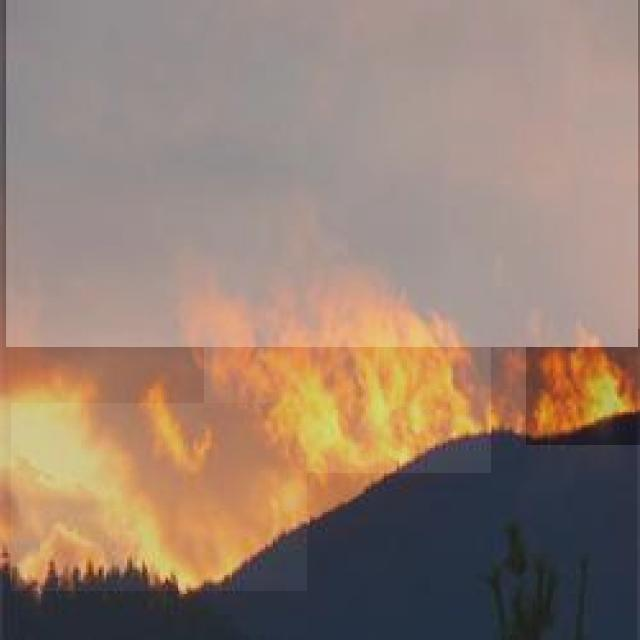Fire: (11, 404, 308, 592), (204, 288, 491, 473), (526, 329, 640, 445)
Smoke: (6, 0, 638, 347)
